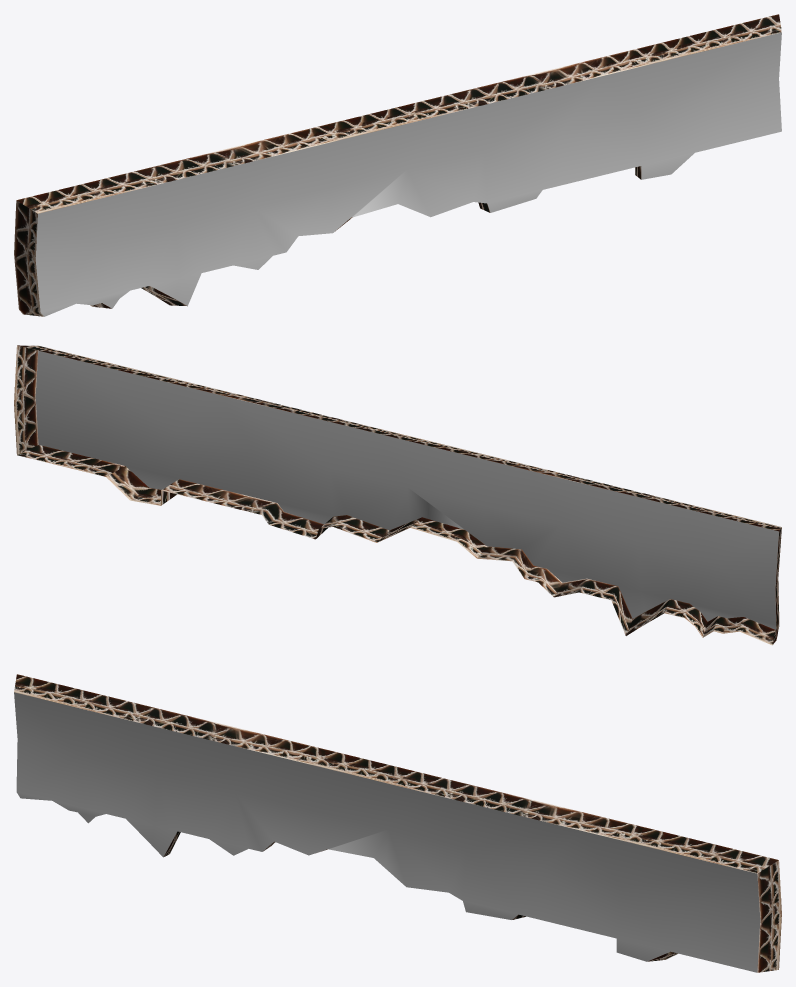
Rendered from SK_Border_003.fbx.
3 views of the same model, one above another, from view 1: azimuth 30°, elevation 25°; view 2: azimuth 150°, elevation 25°; view 3: azimuth 330°, elevation 25° (orthographic).
Visible parts, largest first — view 1: Border_003; view 2: Border_003; view 3: Border_003.
Part boxes in pixels (bbox=[...]): Border_003: bbox=[14, 14, 781, 316]; Border_003: bbox=[14, 345, 781, 645]; Border_003: bbox=[14, 674, 781, 972].
Bounding box in the file's own units: 639 × 114 × 22.66.
